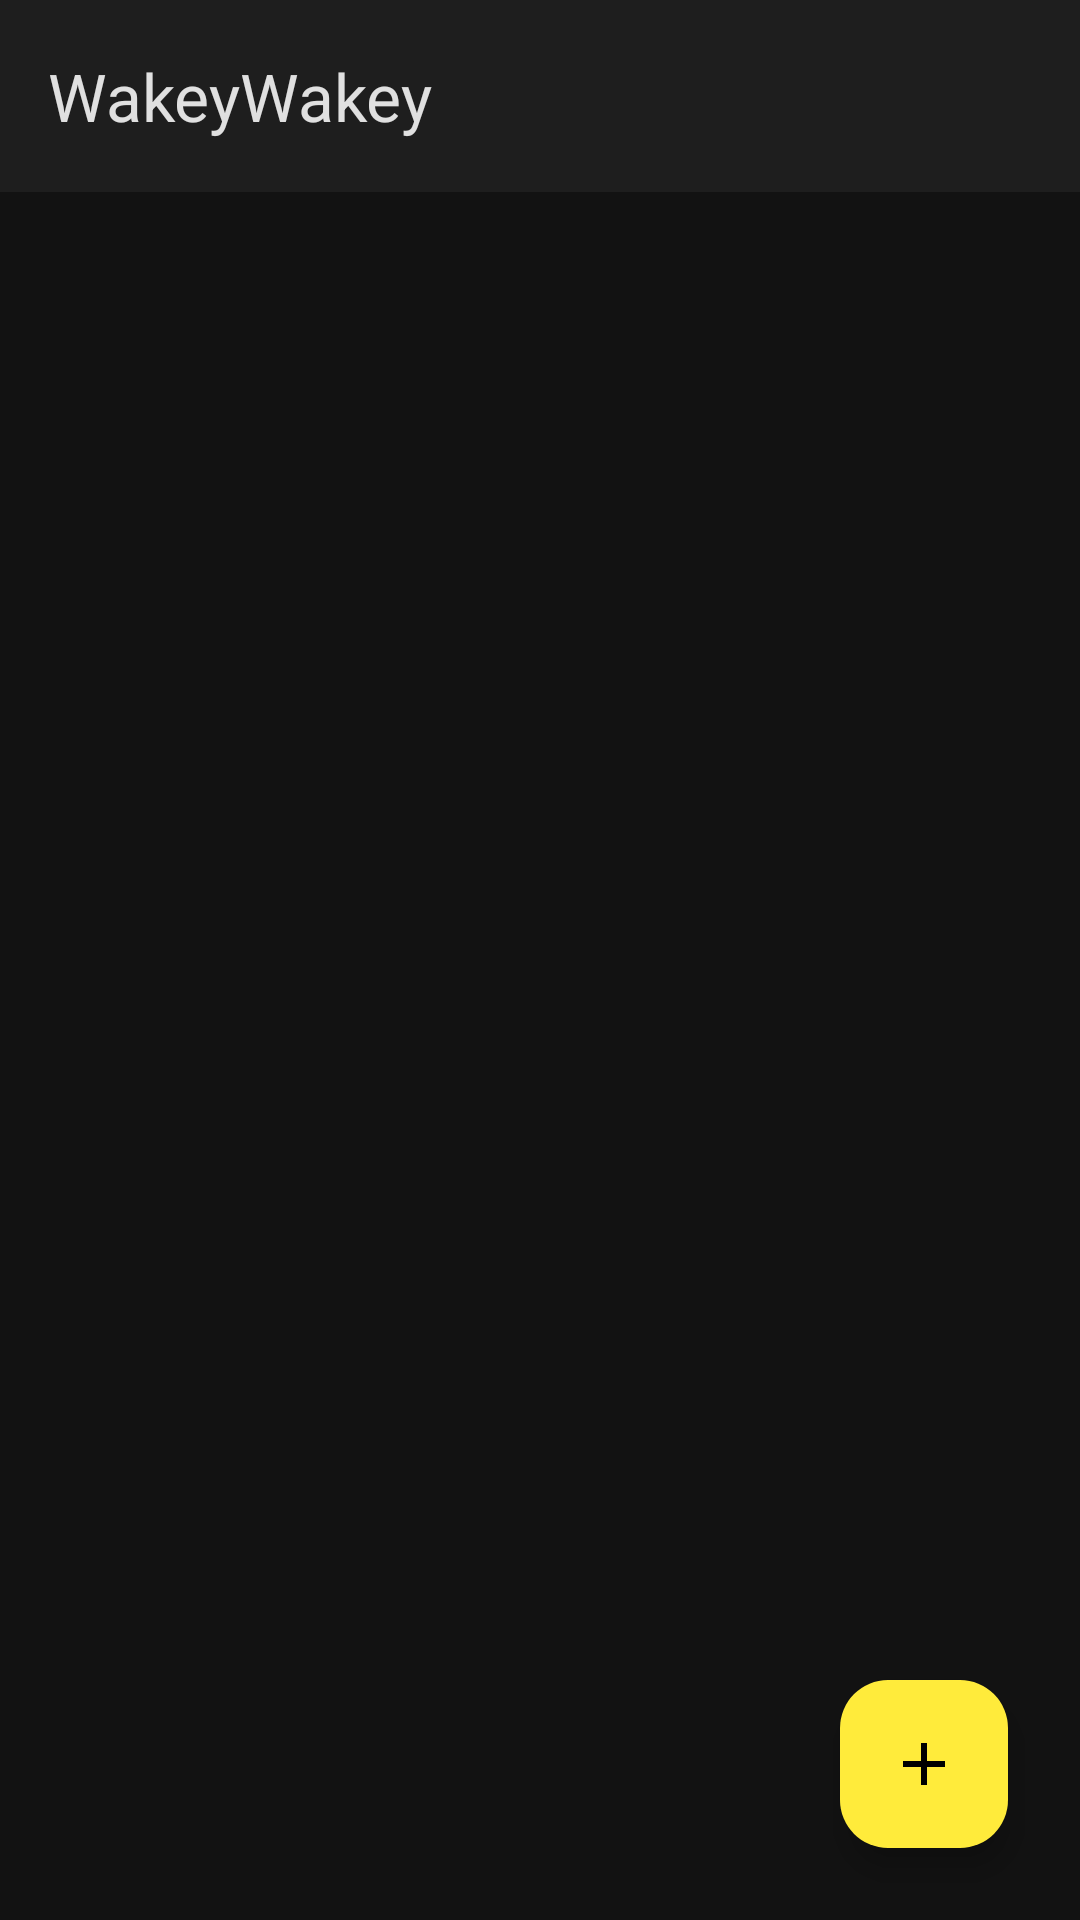

Icons on this 1080px×1920px Android screen, each with its box as (x1=x1, y1=y1, x2=x2, y2=y2):
Add Alarm: (x1=840, y1=1680, x2=1008, y2=1848)
